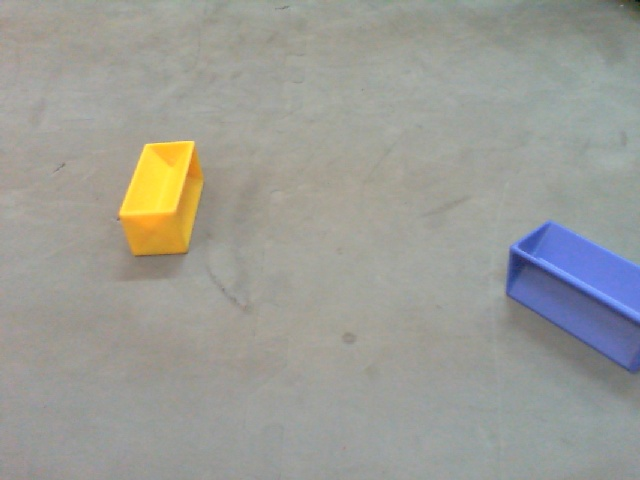BlueSample: (504, 219, 640, 376)
YellowSample: (114, 140, 205, 258)
